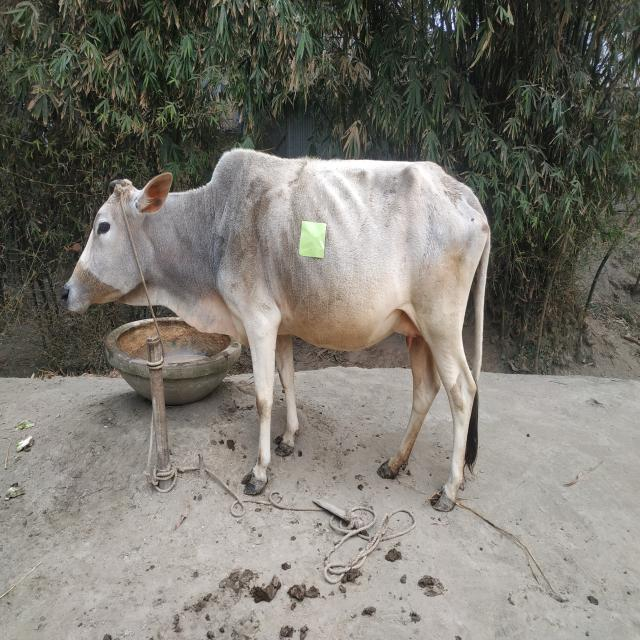badan_sapi: (217, 145, 486, 356)
sapi: (52, 135, 494, 507)
